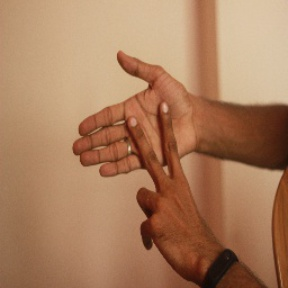N: (69, 47, 212, 245)
